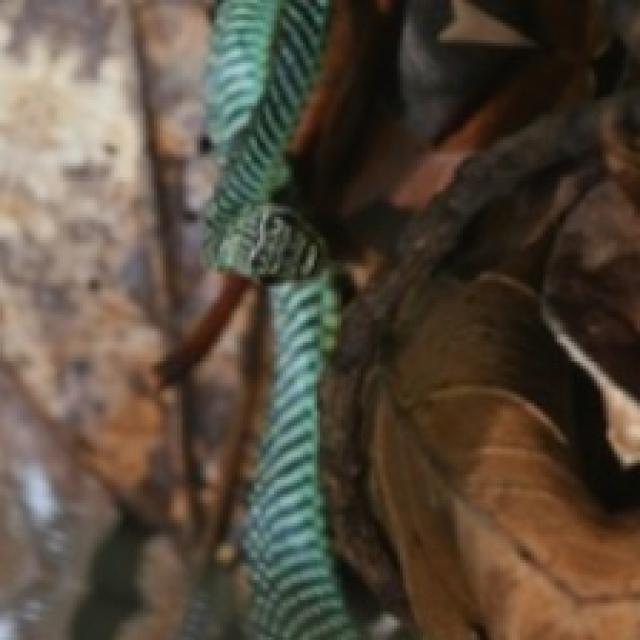paradise tree snake: (211, 0, 637, 637)
